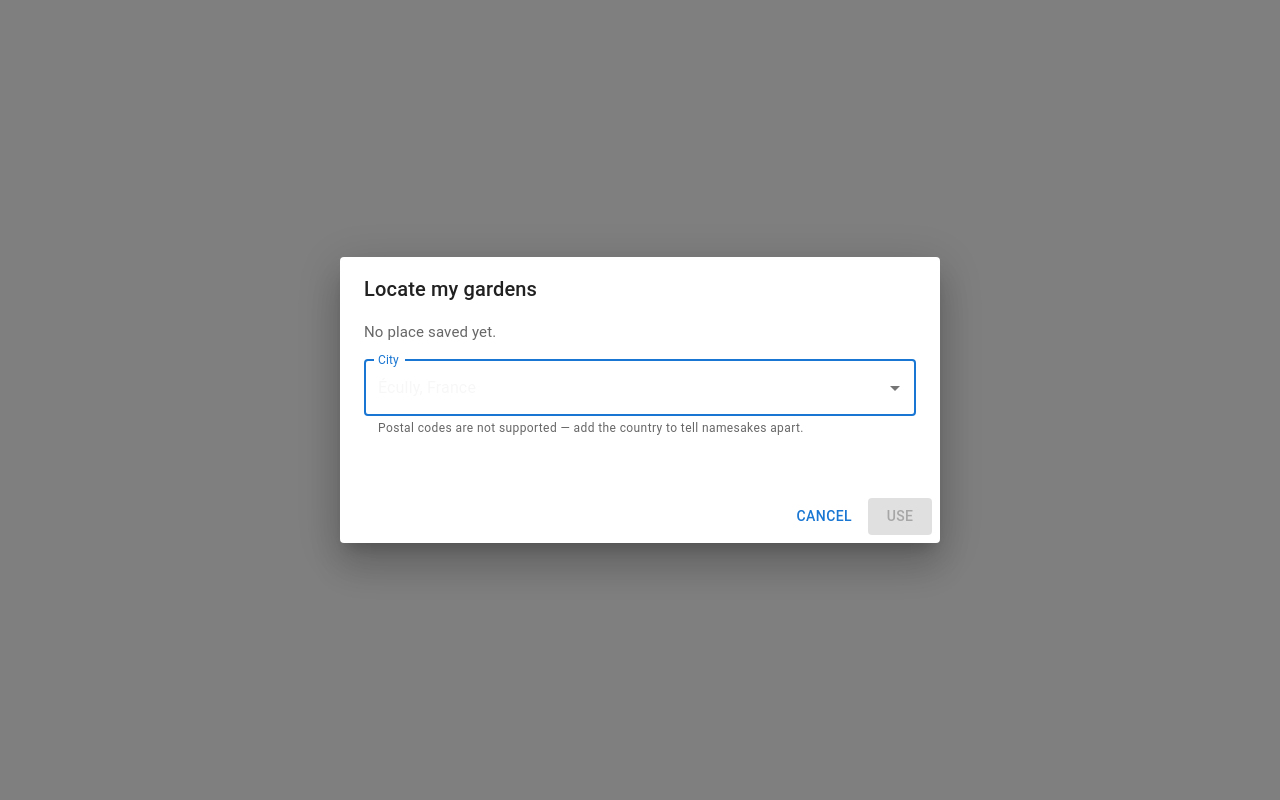
Test case: LocationDialog — writing › keeps the dialog OPEN with an inline error and the pick intact when the write fails
The image size is (1280, 800).
Step 1. Type "Lyon" into the dropdown labelled "City" → (625, 388), box top-left (373, 368), bottom-right (877, 406)
Wait 400 ms
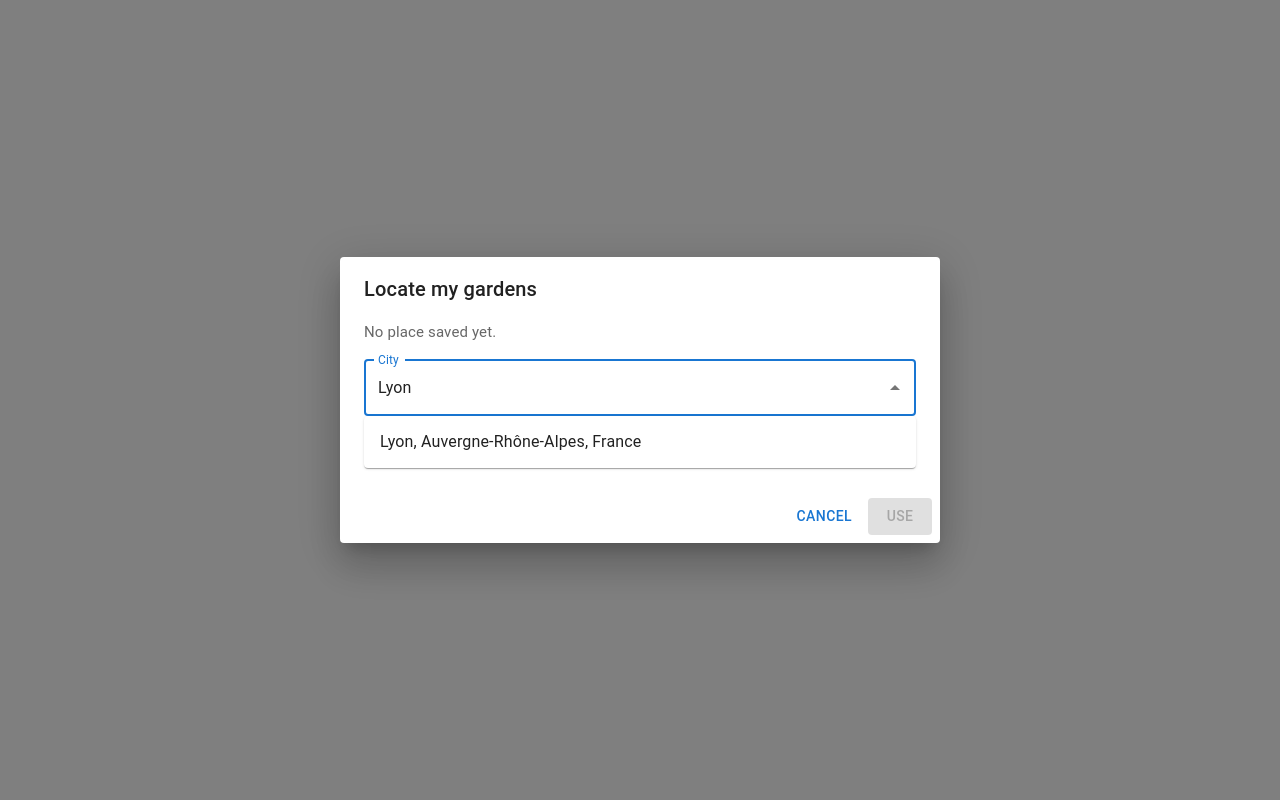
Step 2. Click the option "Lyon, Auvergne-Rhône-Alpes, France" → click(511, 442), box top-left (380, 432), bottom-right (641, 451)
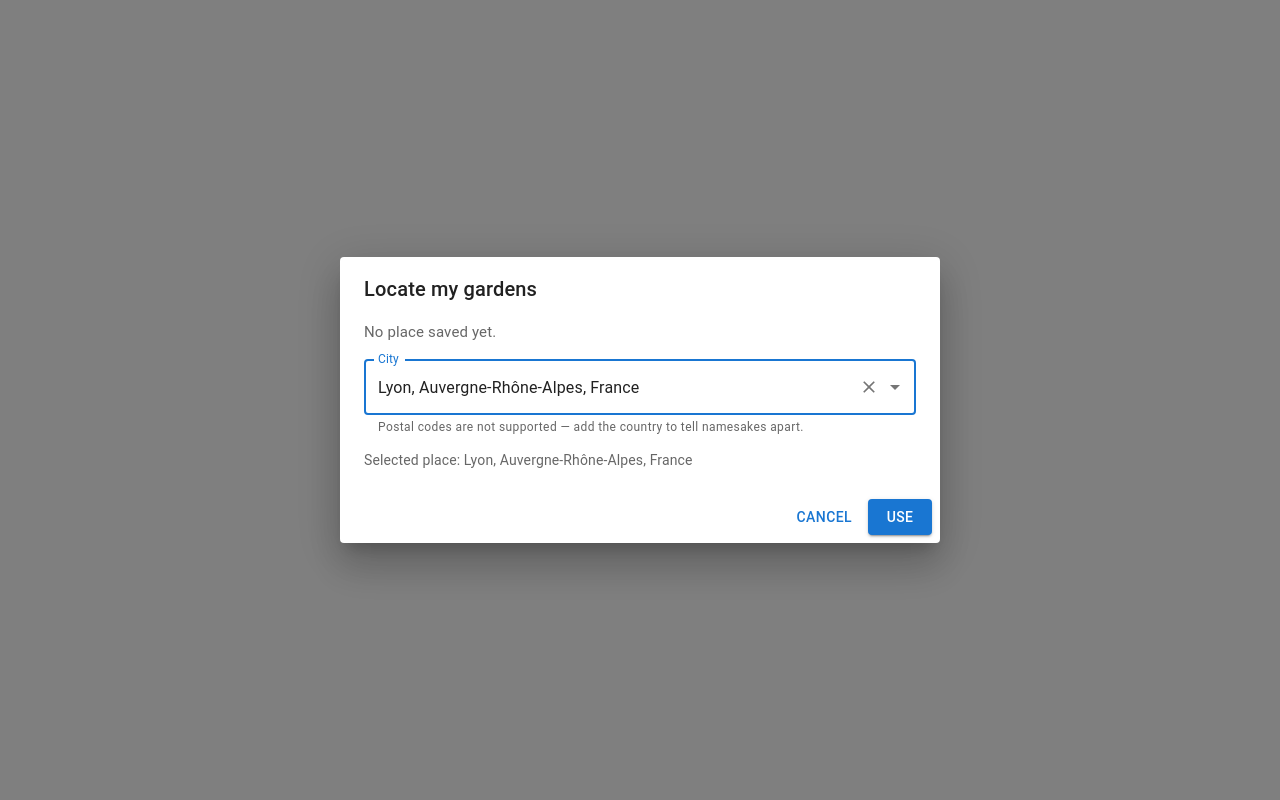
Step 3. Click the button "Use" → click(900, 517), box top-left (868, 499), bottom-right (932, 536)
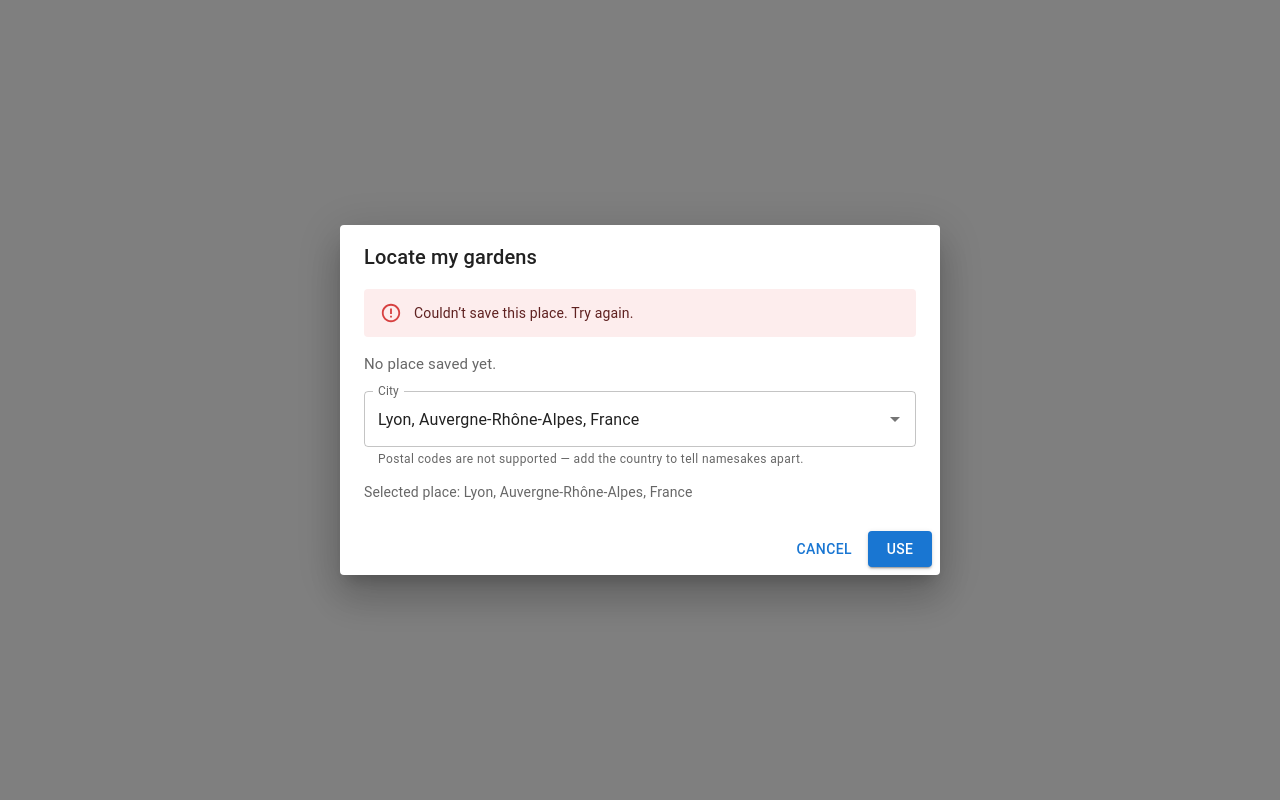
Expected: the text "Selected place: Lyon, Auvergne-Rhône-Alpes, France" is shown, top-left (364, 484), bottom-right (693, 500)
Expected: the button "Use" is enabled, top-left (868, 531), bottom-right (932, 568)
Expected: the message reads "Couldn’t save this place. Try again.", top-left (414, 304), bottom-right (634, 320)
